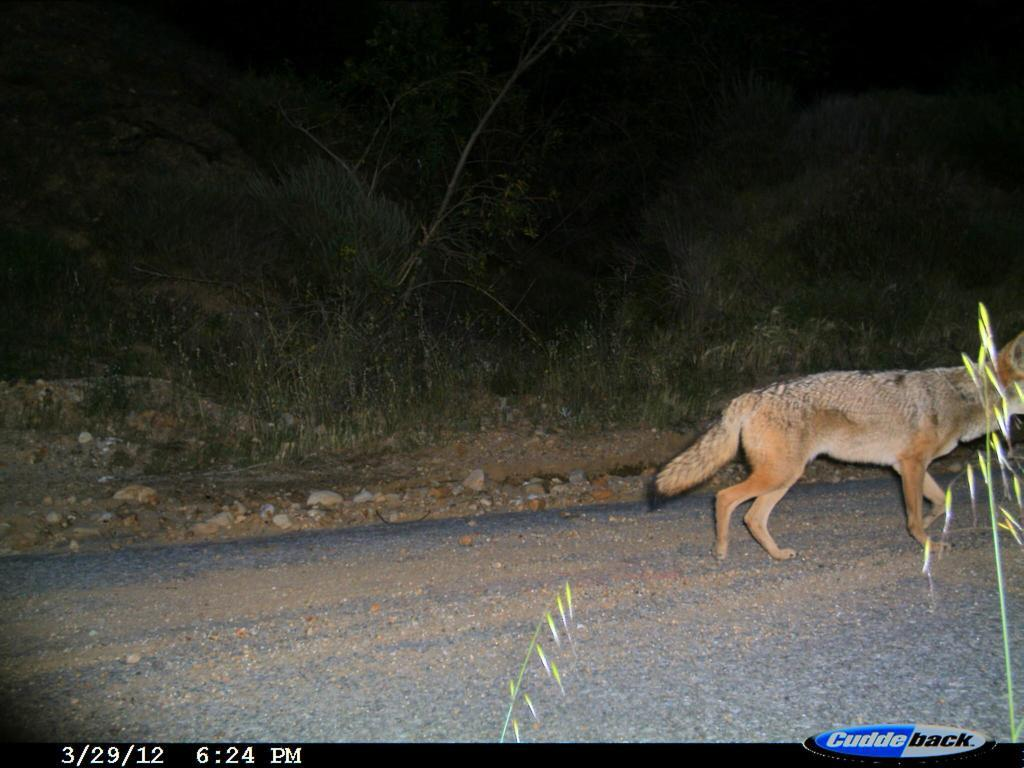coyote: (646, 321, 1024, 578)
